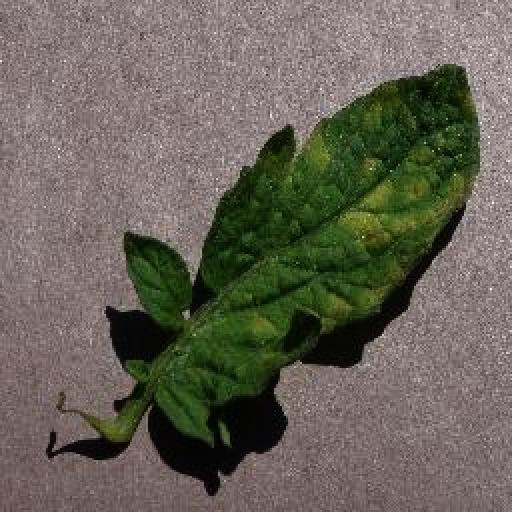disease_tomato: (126, 62, 480, 448)
